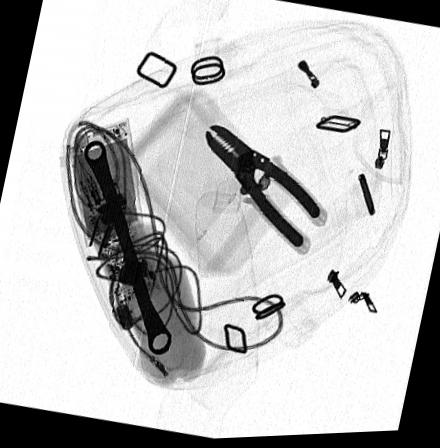Pliers: (203, 124, 319, 251)
Powerbank: (68, 119, 147, 248)
Wrench: (83, 139, 173, 356)
